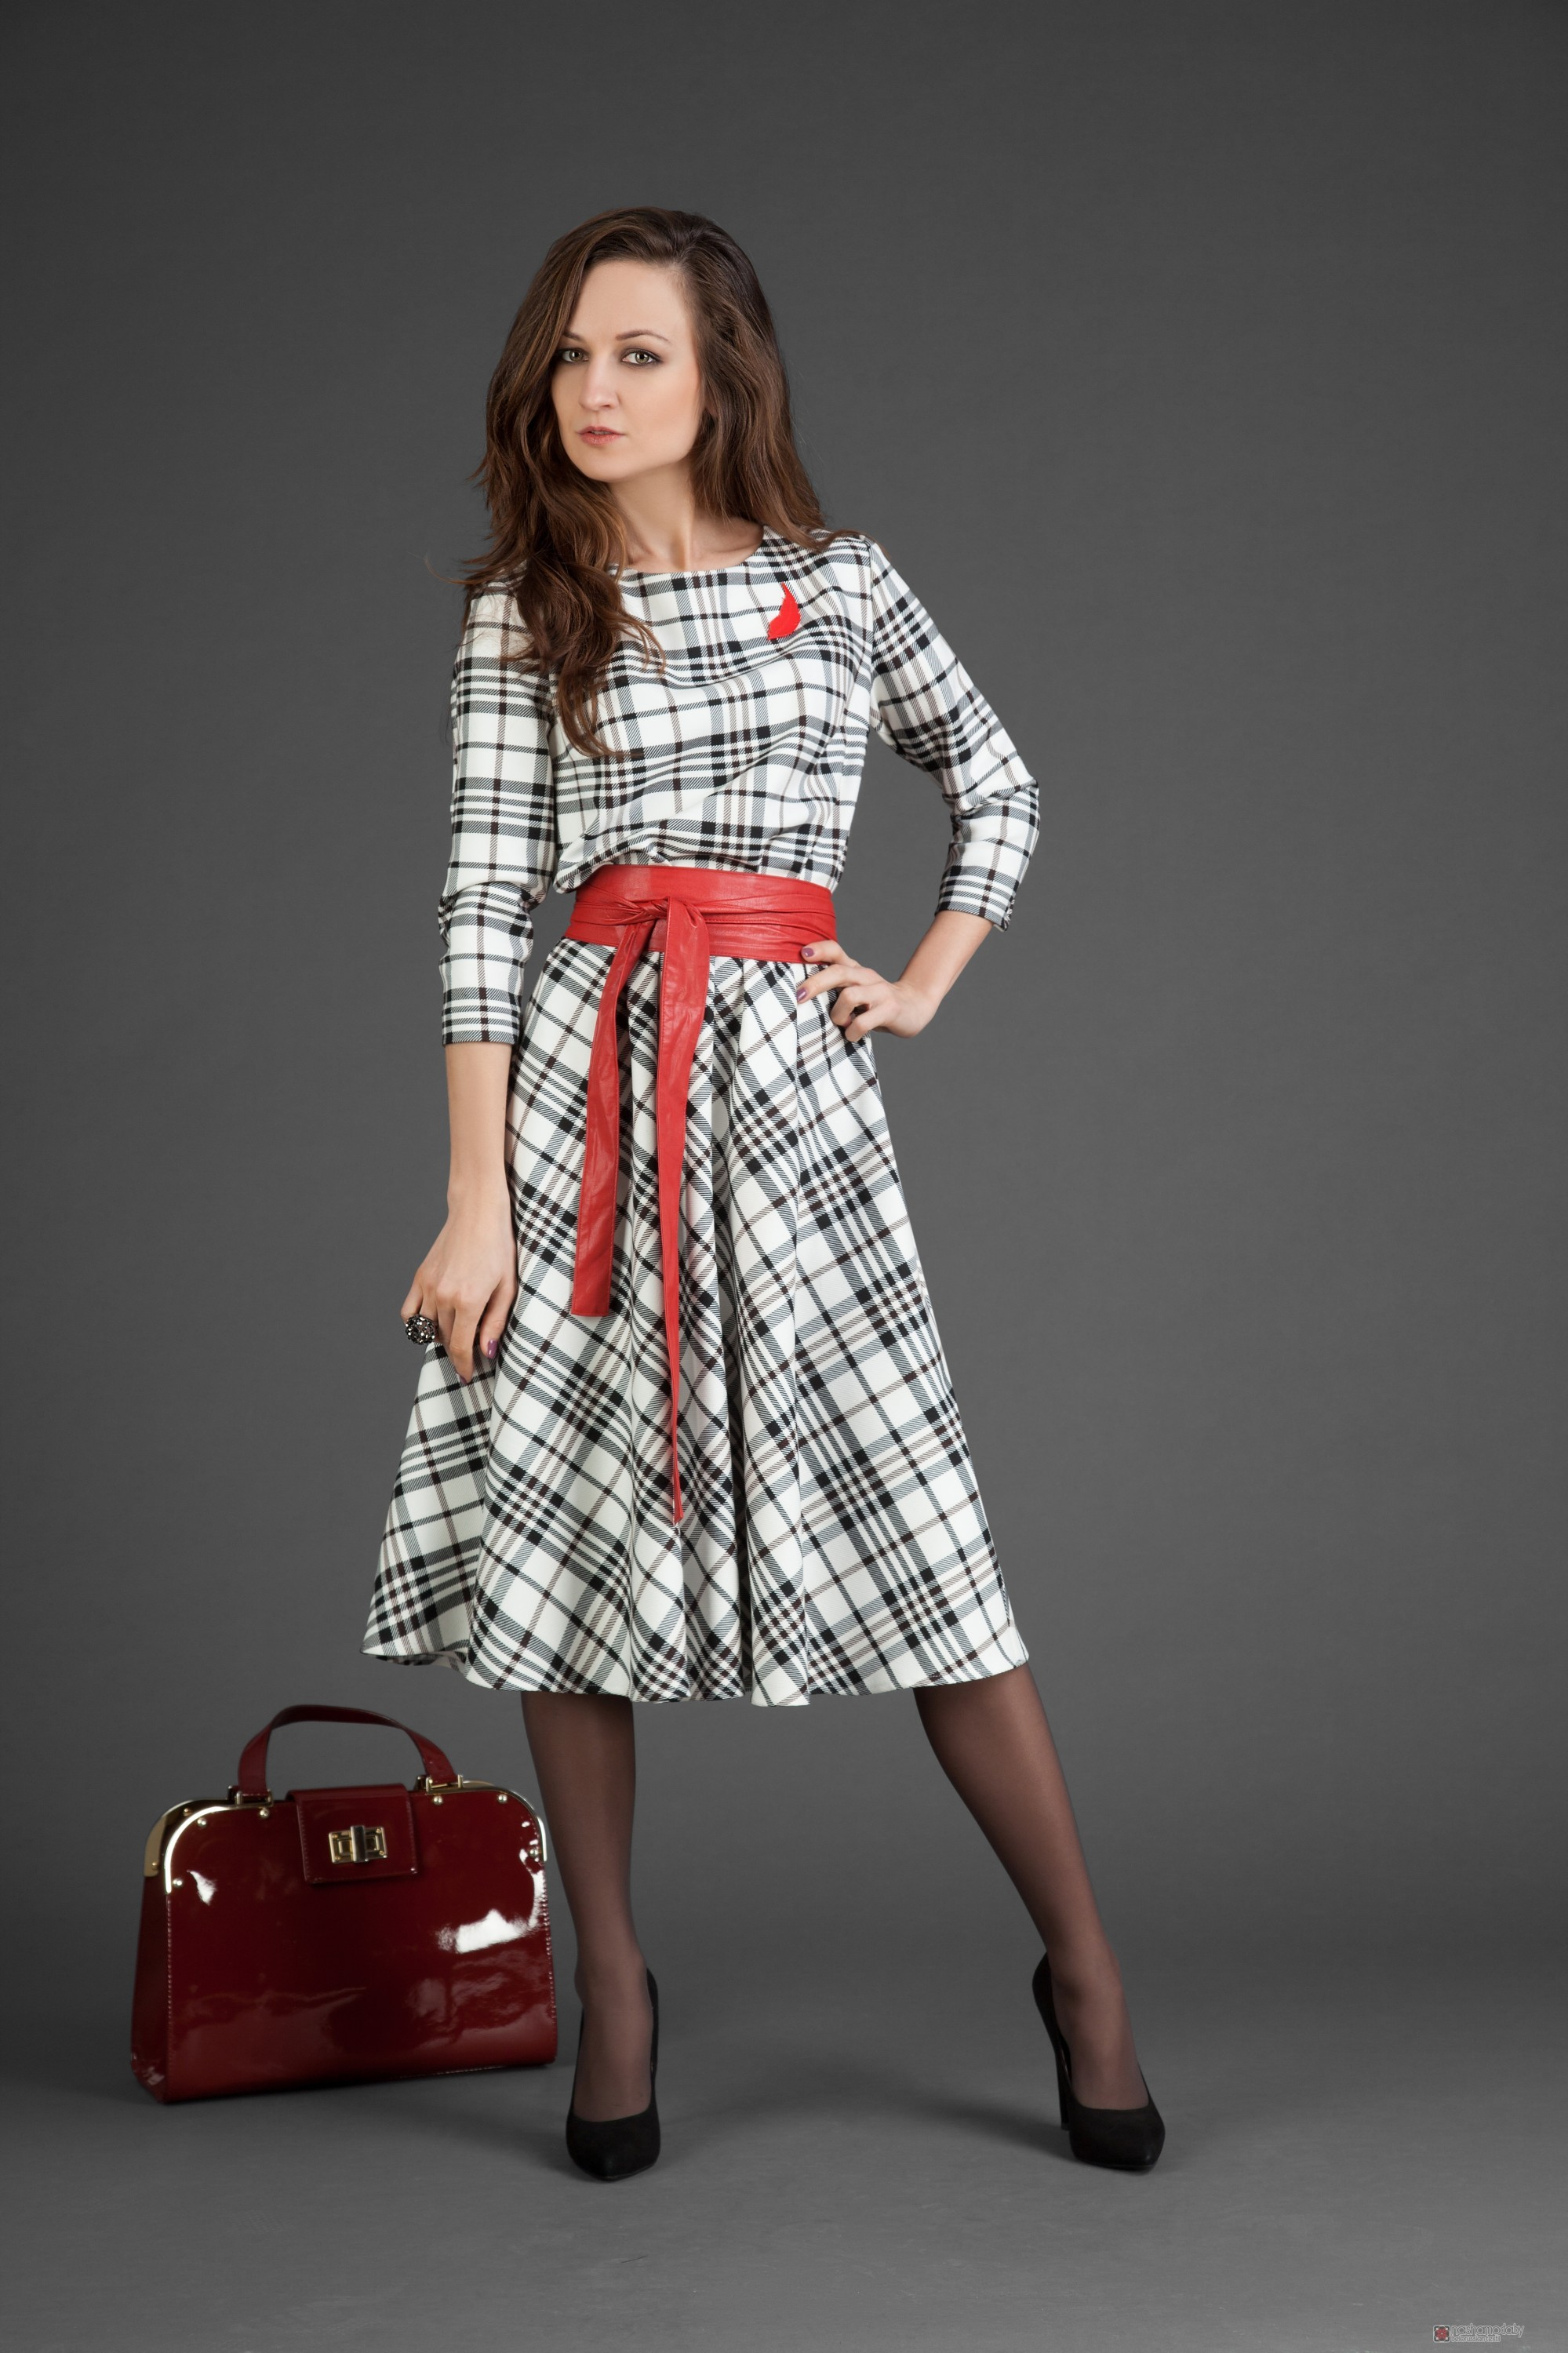squared: (346, 516, 1066, 1723)
